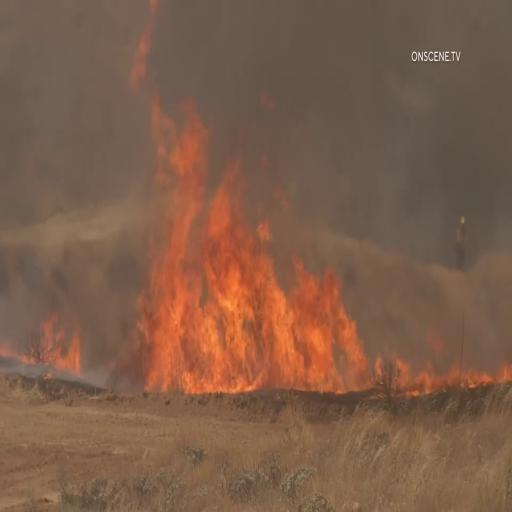fire: (124, 8, 372, 391), (382, 331, 512, 400), (15, 304, 89, 383)
